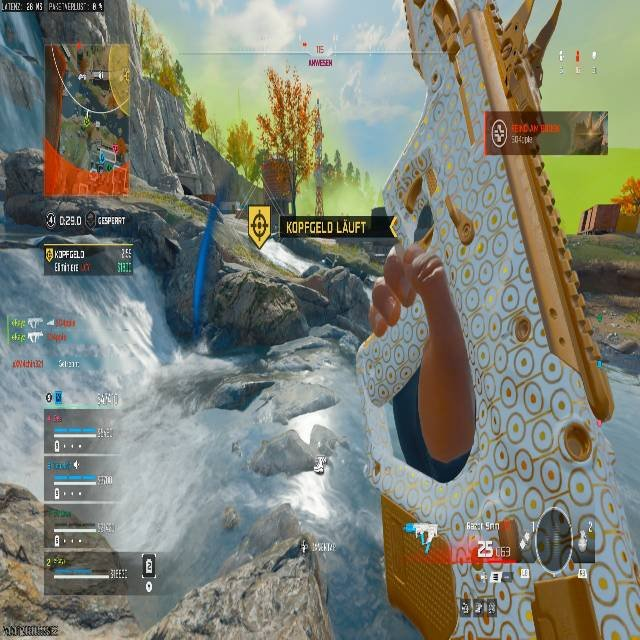player: (75, 50, 569, 640)
